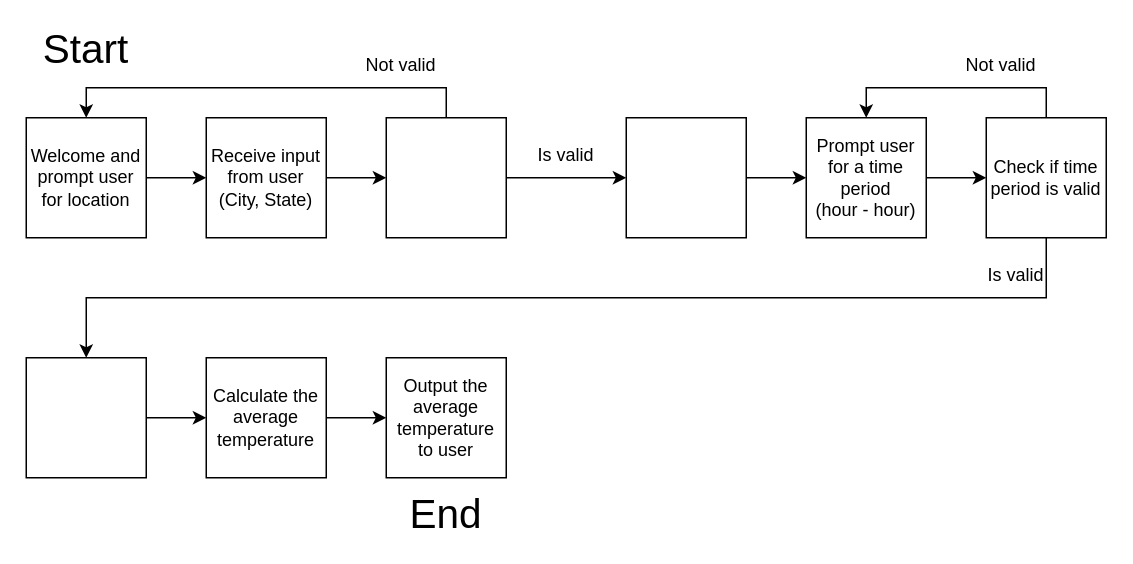
This 1133x564 diagram has some shape labels left out. The centre of each missing label's shape, as x and y in pixels:
"Check if location is valid" belongs at [445,177].
"Convert location into latitude and longitude coordinates" belongs at [685,177].
"Get hourly temperatures of location over time period" belongs at [85,417].
